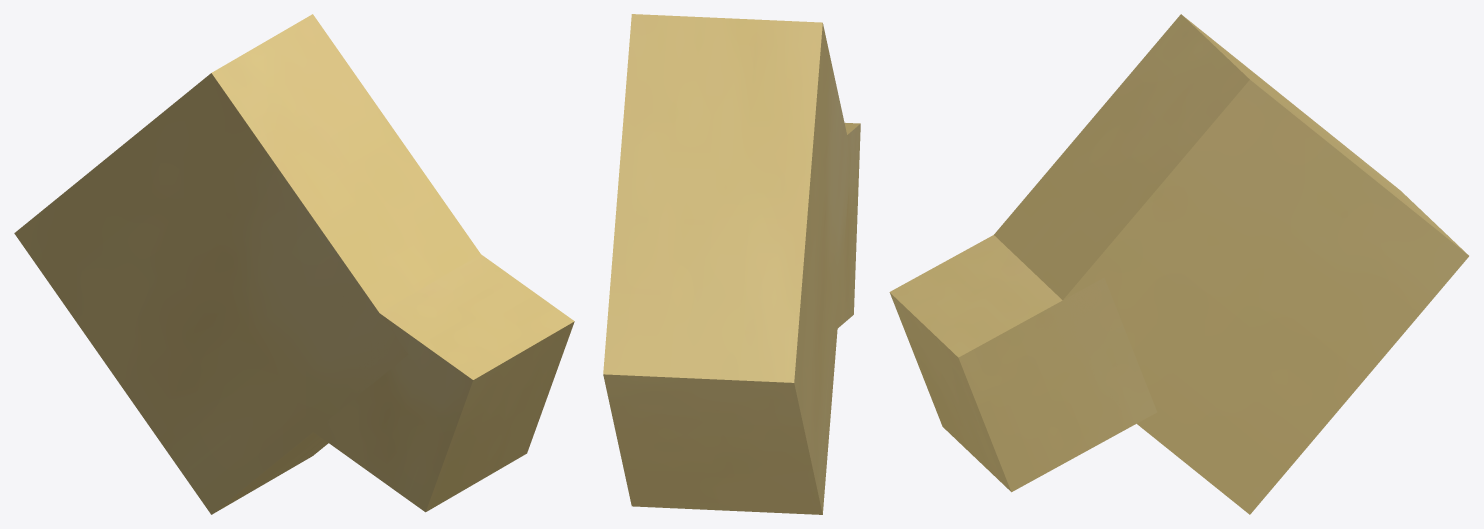
The model's file is M6_Static1Stone.fbx.
3 renders of one model, left to right at view 1: azimuth 30°, elevation 25°; view 2: azimuth 150°, elevation 25°; view 3: azimuth 270°, elevation 25°, orthographic. The views are drawn at different scales.
Parts seen in each view (by area): view 1: S1Box2, S1Box3; view 2: S1Box2, S1Box3; view 3: S1Box2, S1Box3.
Boxes of the visible parts, x1,y1,x2,y2 form: S1Box2: (14,14,480,514); S1Box3: (313,254,574,512); S1Box2: (603,14,851,514); S1Box3: (837,122,860,328); S1Box2: (994,14,1468,514); S1Box3: (889,235,1156,492).
Size of what is drawn, in the model's own units: 45.01 by 56.57 by 68.3.
